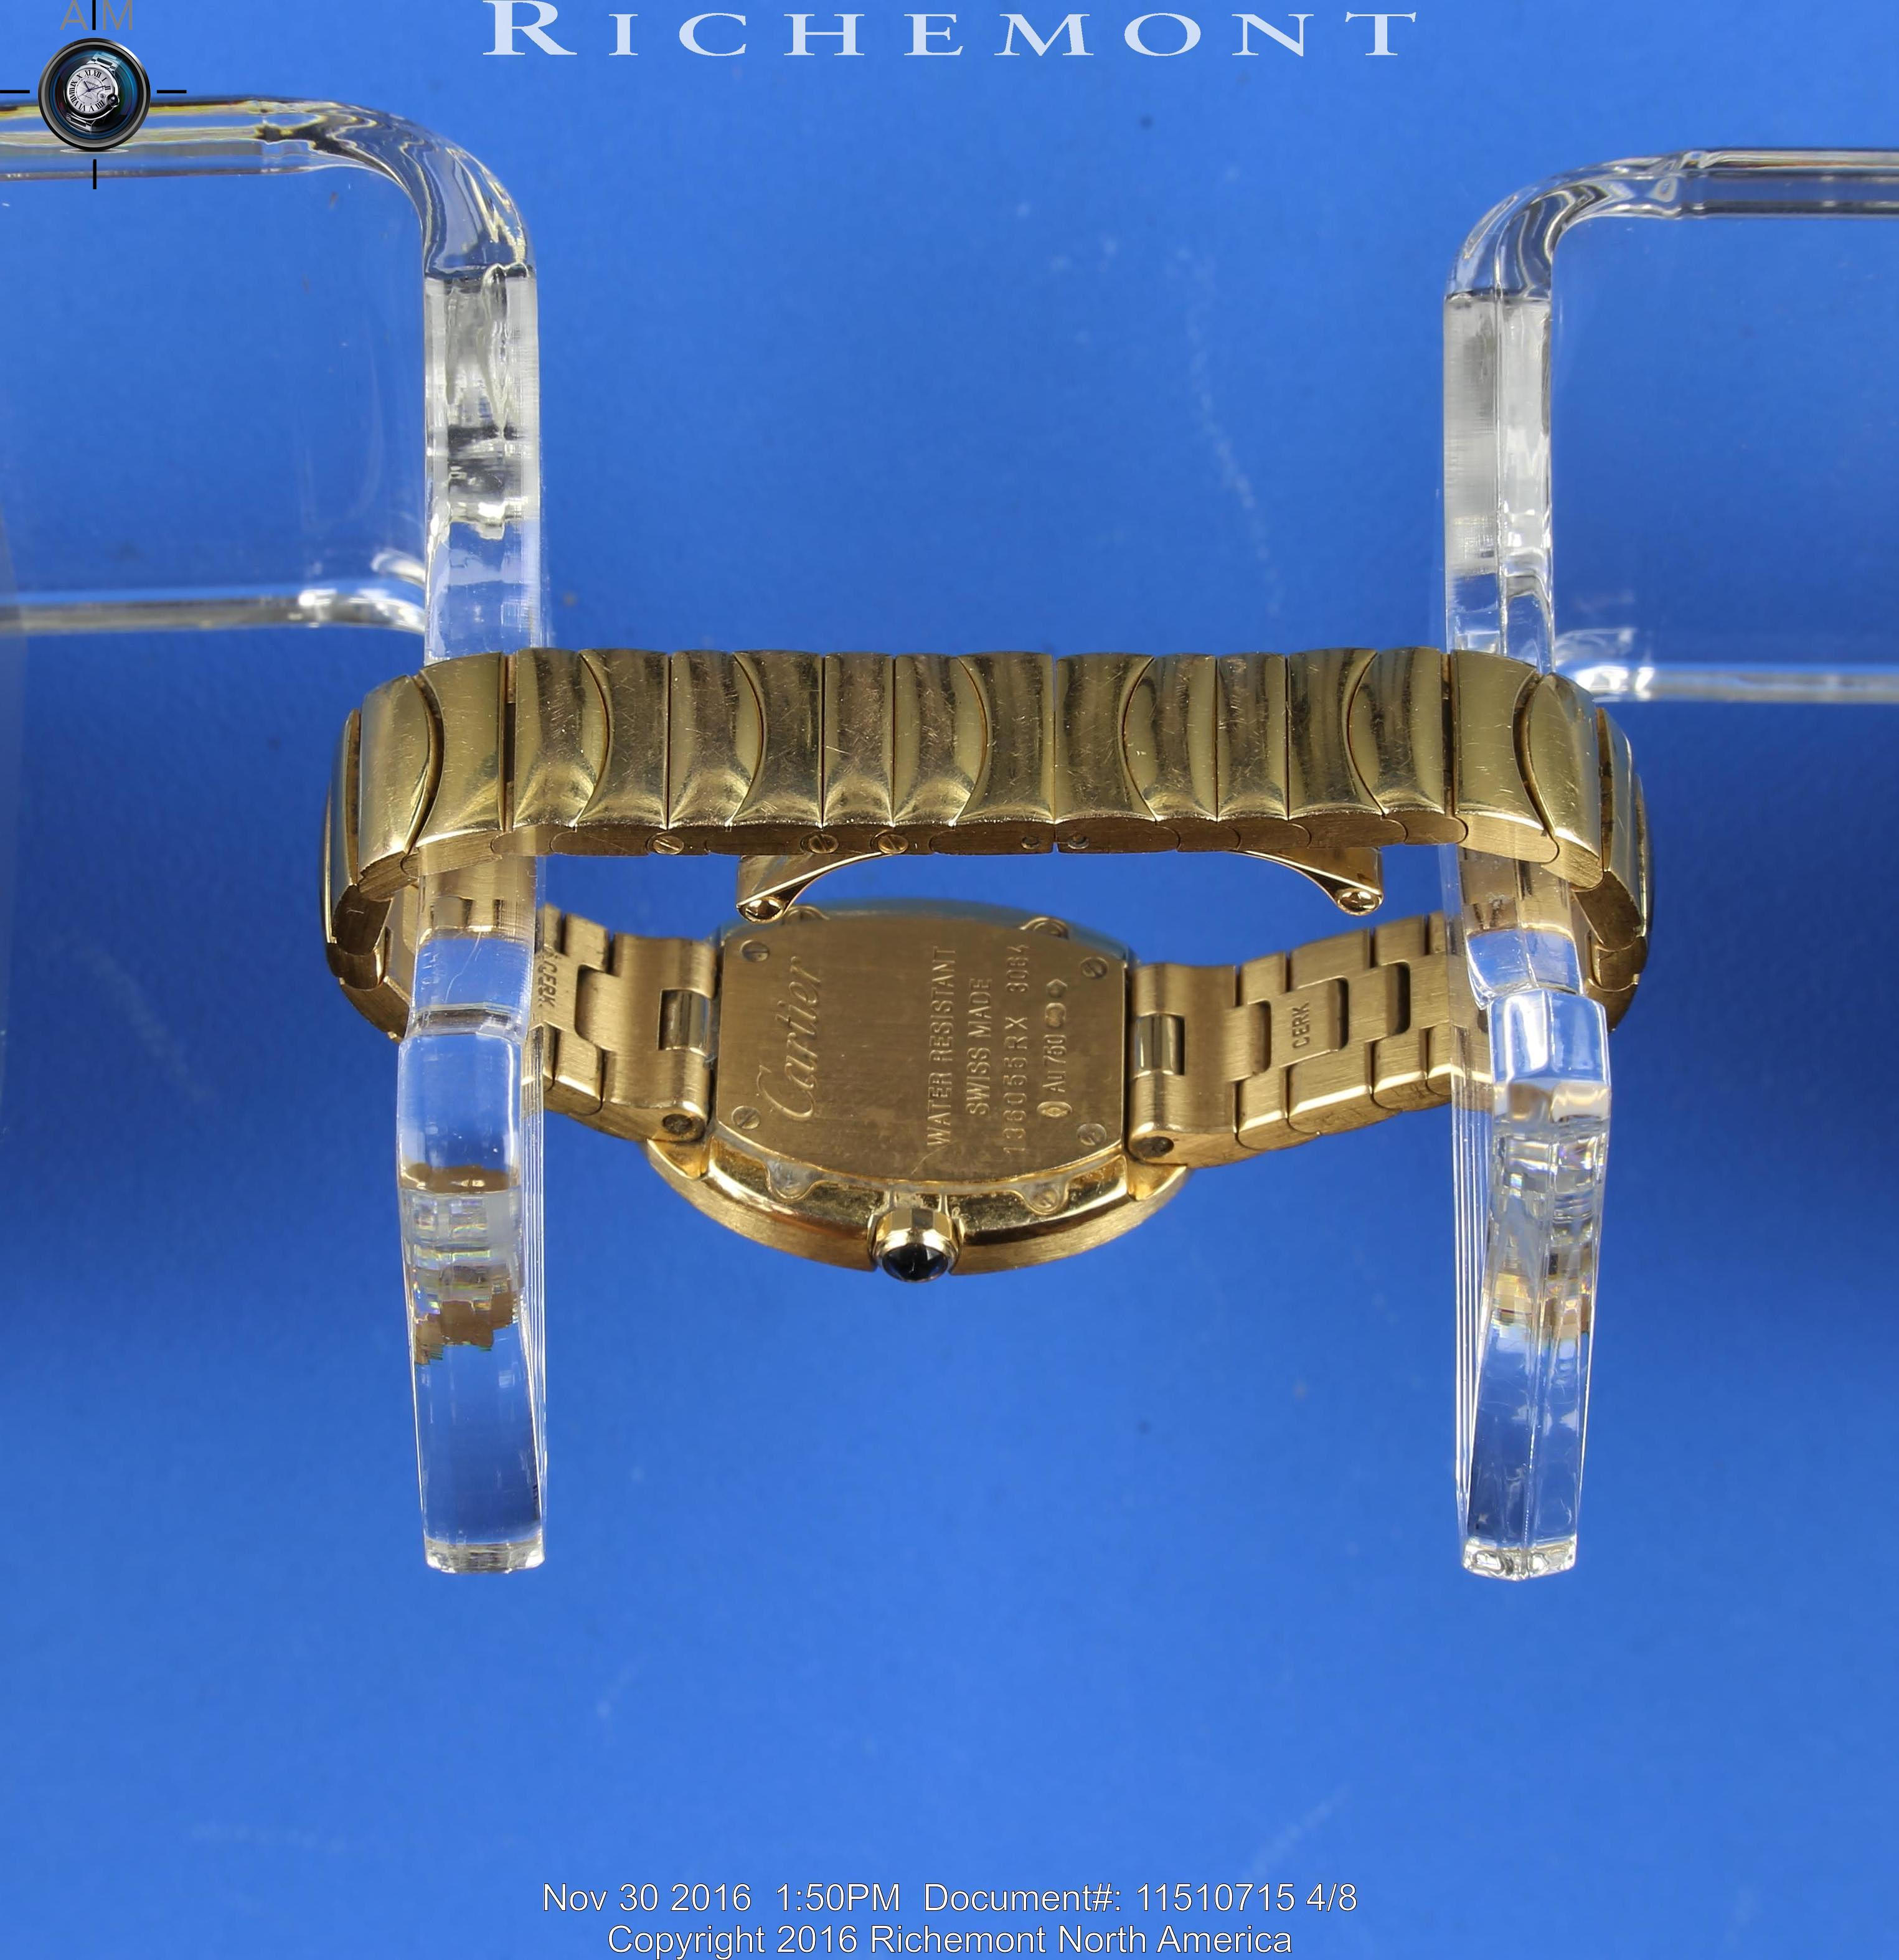Watch Back Case: (623, 885, 1229, 1293)
